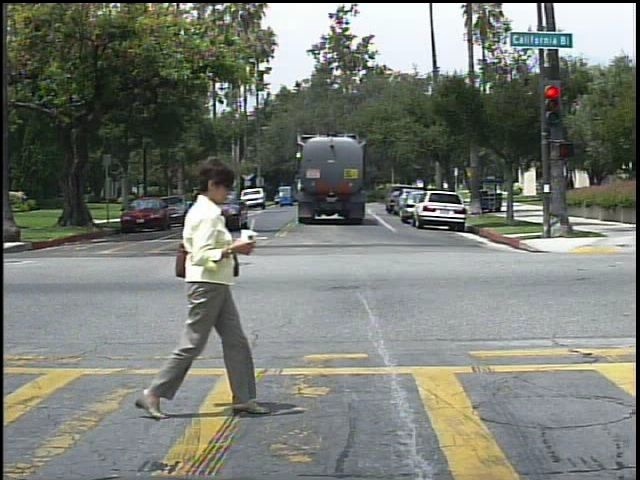person: (140, 152, 260, 424), (564, 172, 582, 206), (515, 181, 529, 200)
